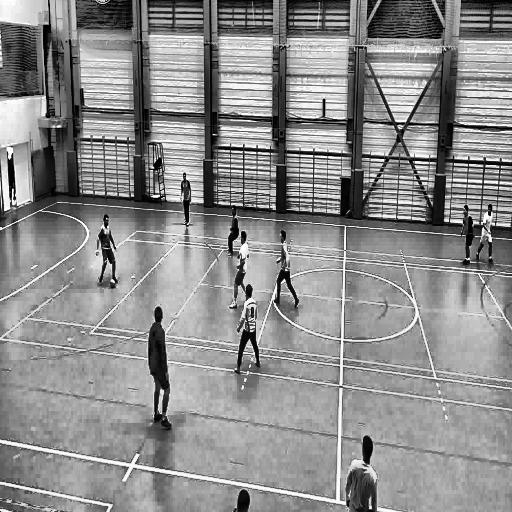ball: (109, 277, 116, 291)
player: (148, 306, 172, 435), (345, 427, 378, 512), (231, 284, 260, 377), (272, 230, 300, 308), (227, 230, 254, 309), (94, 213, 119, 289), (475, 201, 496, 267), (458, 204, 474, 267), (224, 205, 240, 257), (179, 172, 192, 230)
